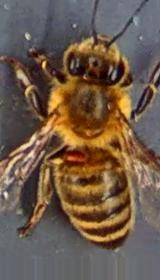varroa_mite: (55, 136, 93, 174)
